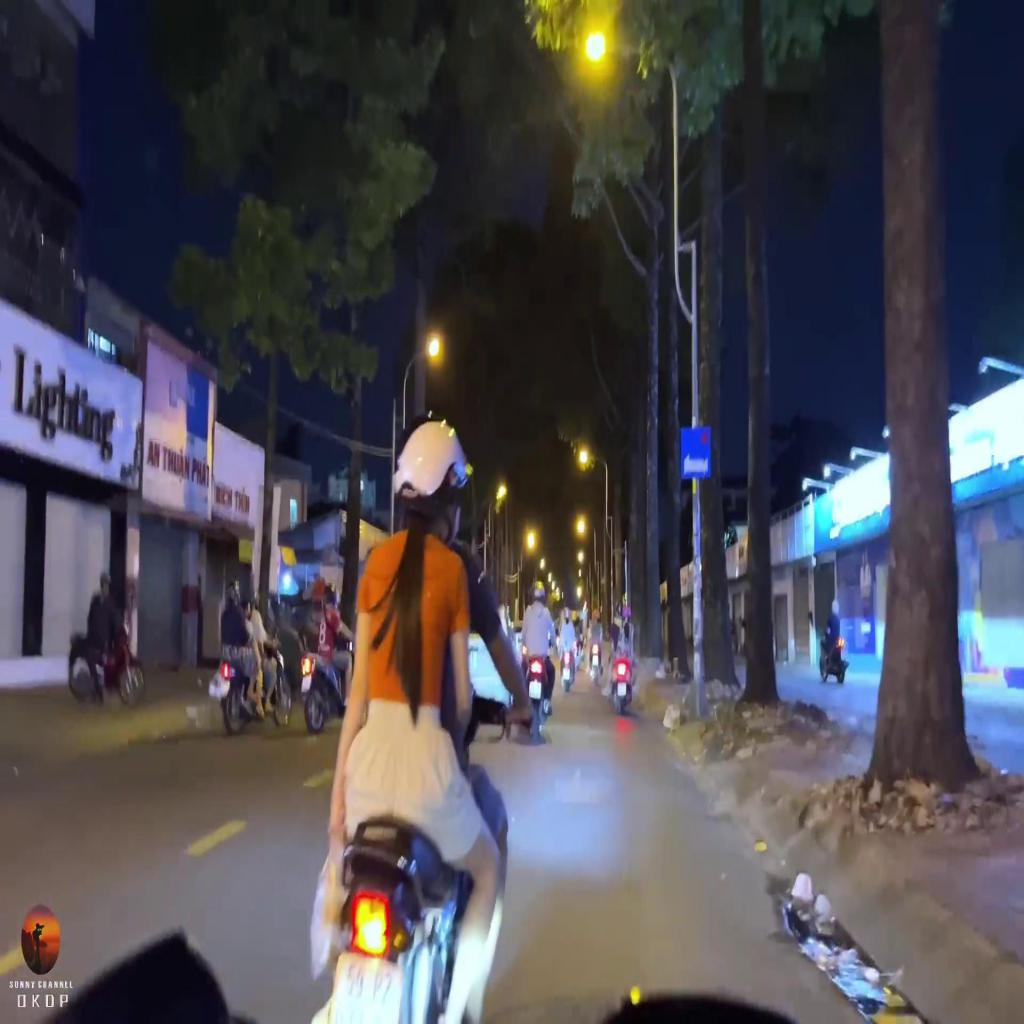khac: (680, 428, 712, 480)
